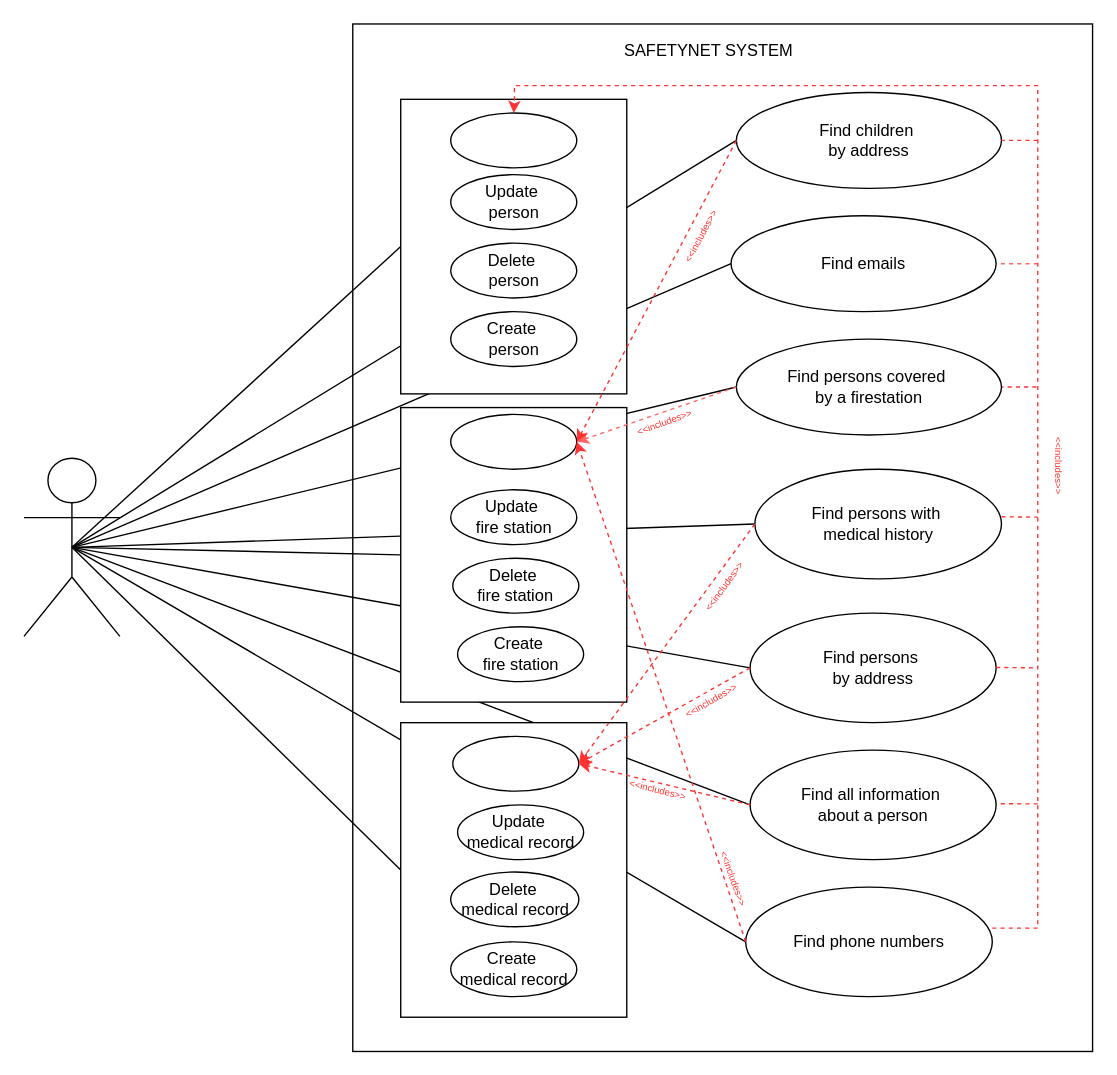
This 1117x1075 diagram has some shape labels left out. Each missing label, with the centre of its shape:
"Find all fire stations" belongs at point 513,441.
"Find all medical record" belongs at point 515,763.
"Find all person" belongs at point 513,140.
"USER" belongs at point 71,546.
